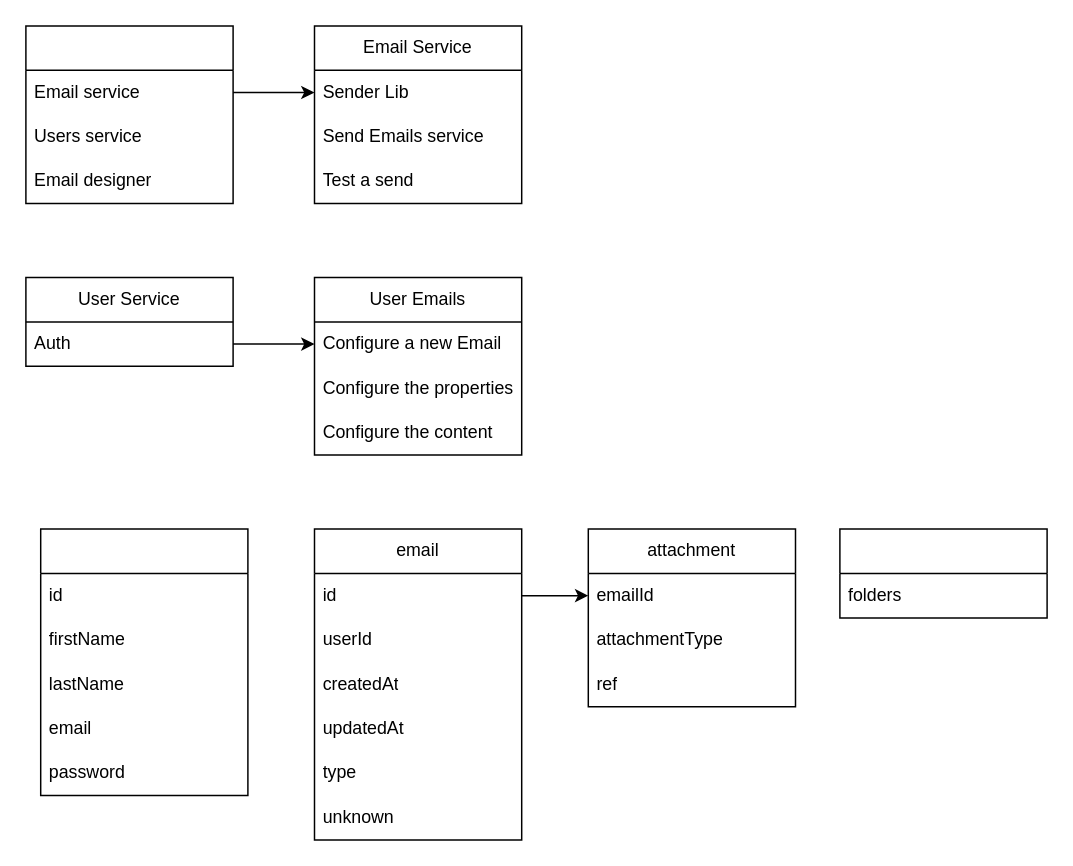
Image size: 1073x866. Some labels were removed from this diagram. Here are the shapes that lost their labels. From the top down, the box of each, then its label:
(24, 24, 233, 204): First Stage
(838, 528, 1047, 618): Storage
(39, 528, 248, 796): user
